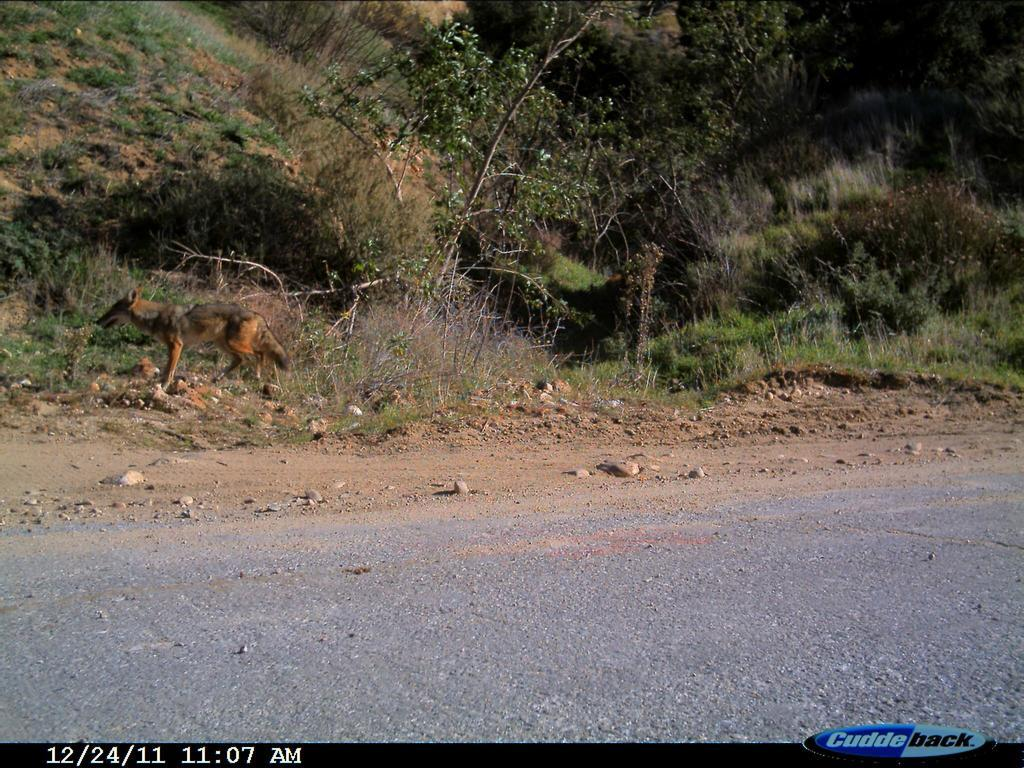coyote: (86, 272, 301, 413)
